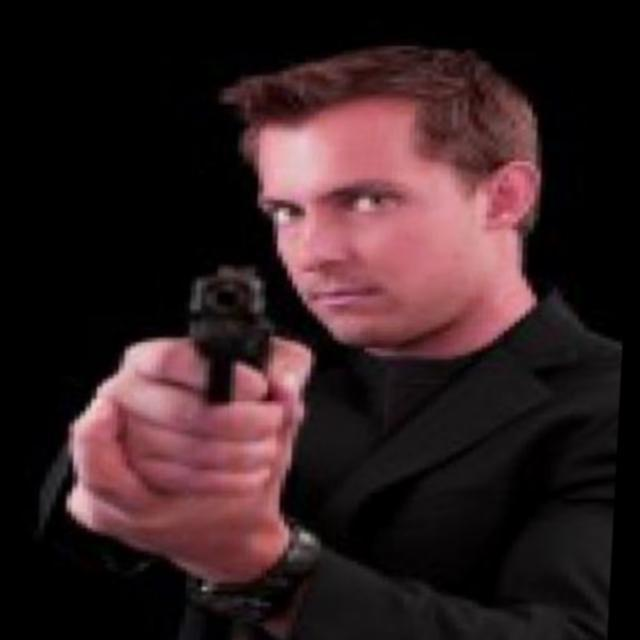weapon: (162, 254, 314, 555)
